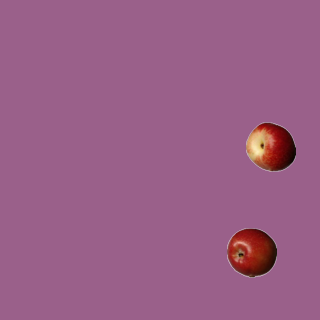Apple Braeburn: (226, 227, 276, 277)
Nectarine: (245, 121, 295, 171)
